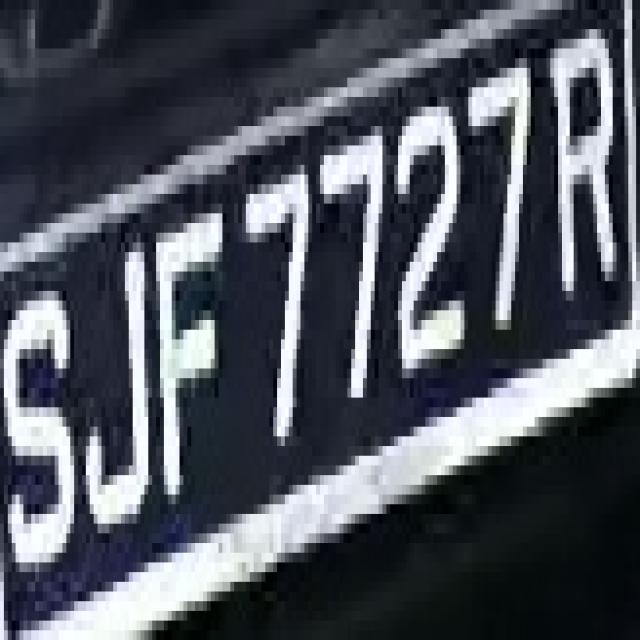2: (390, 87, 472, 427)
7: (234, 155, 324, 466), (456, 49, 538, 368), (313, 136, 387, 436)
F: (148, 174, 238, 524)
J: (66, 223, 164, 572)
R: (550, 19, 617, 300)
S: (0, 262, 82, 630)
